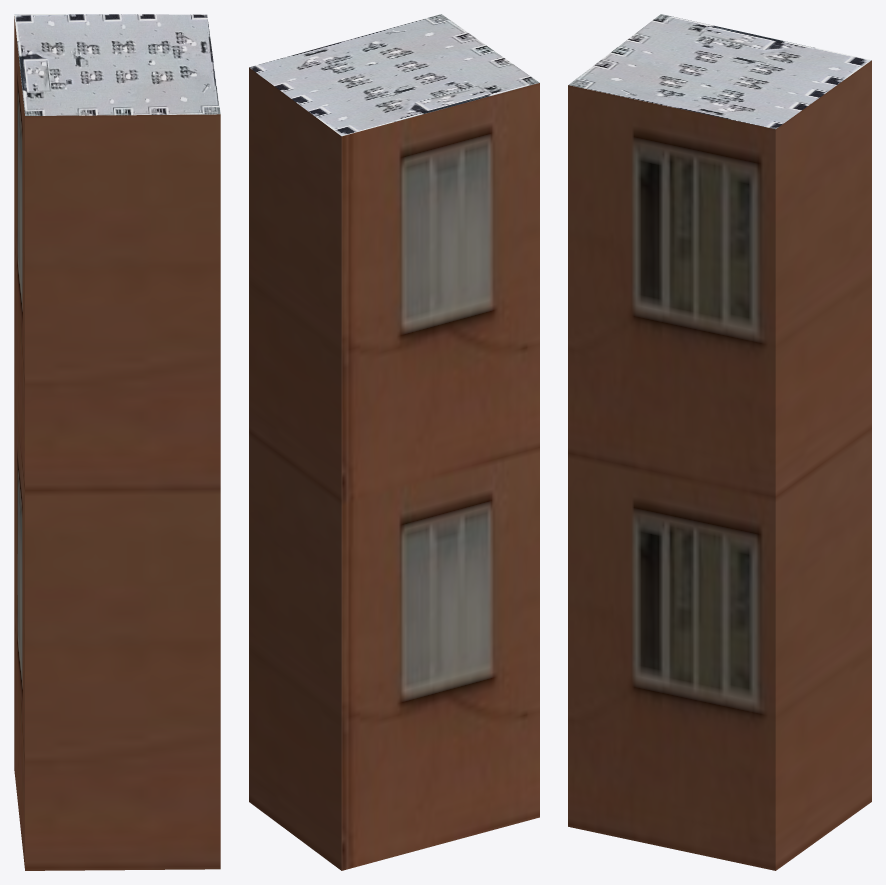
Rendered from ResTex__1910.fbx.
The picture shows the model from 3 angles, left to right: view 1: azimuth 30°, elevation 25°; view 2: azimuth 150°, elevation 25°; view 3: azimuth 270°, elevation 25°; orthographic projection. The views are drawn at different scales.
Visible parts, largest first — view 1: CityEngineMaterial_20_m, CityEngineMaterial_8_m; view 2: CityEngineMaterial_20_m, CityEngineMaterial_8_m; view 3: CityEngineMaterial_20_m, CityEngineMaterial_8_m.
Boxes of the visible parts, <box> form: CityEngineMaterial_20_m: <box>14,16,220,870</box>; CityEngineMaterial_8_m: <box>14,14,220,115</box>; CityEngineMaterial_20_m: <box>249,67,539,870</box>; CityEngineMaterial_8_m: <box>249,14,539,136</box>; CityEngineMaterial_20_m: <box>568,60,871,870</box>; CityEngineMaterial_8_m: <box>568,14,871,129</box>.
Bounding box in the file's own units: 2 × 6 × 2.23.
Materials: 2 (2 with a texture image).
